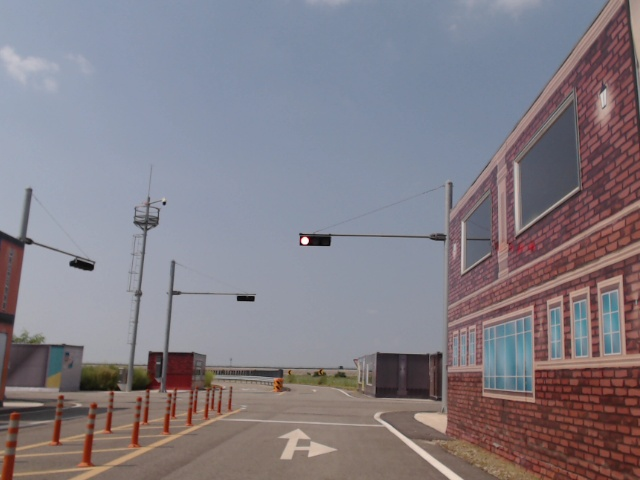red_3: (299, 236, 331, 246)
